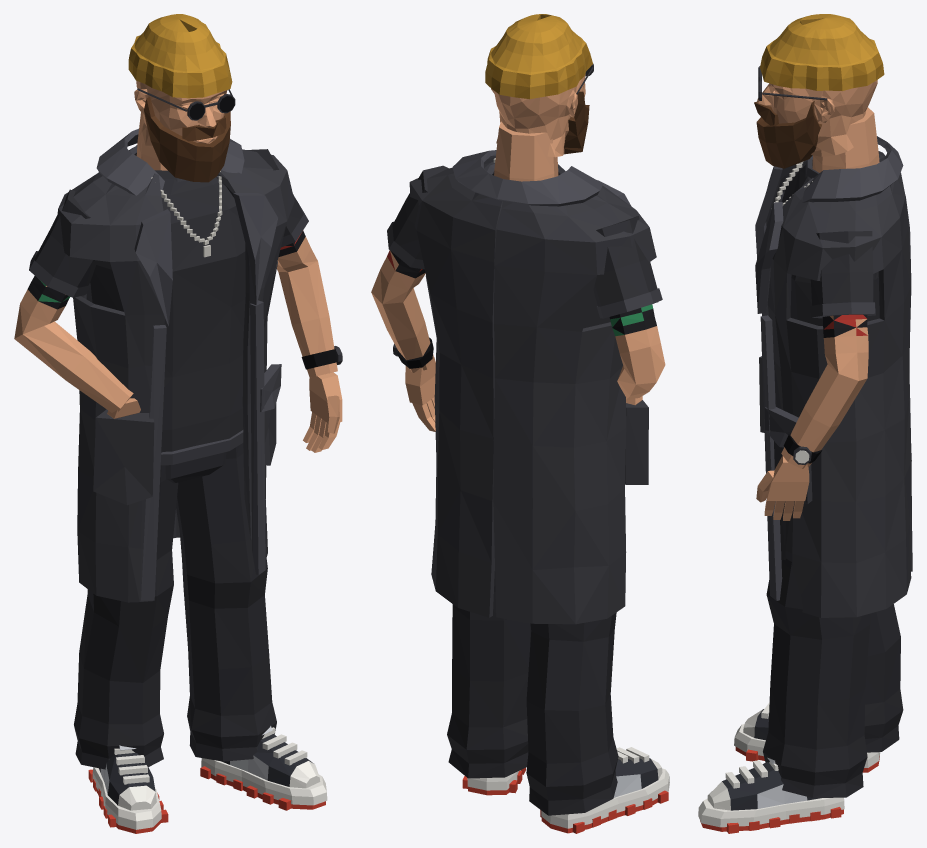
Rendered from oleg-figure.glb.
The picture shows the model from 3 angles, left to right: view 1: azimuth 30°, elevation 25°; view 2: azimuth 150°, elevation 25°; view 3: azimuth 270°, elevation 25°; orthographic projection. The views are drawn at different scales.
Visible parts, largest first — view 1: TorsoMesh, Body, HeadMesh, ArmLMesh; view 2: TorsoMesh, Body, HeadMesh, ArmLMesh; view 3: TorsoMesh, Body, HeadMesh, ArmLMesh.
Part boxes in pixels (x1,y1,x2,y2): TorsoMesh: [14, 112, 294, 602]; Body: [74, 443, 327, 833]; HeadMesh: [128, 14, 235, 182]; ArmLMesh: [247, 149, 342, 452]; TorsoMesh: [409, 121, 665, 624]; Body: [447, 571, 669, 833]; HeadMesh: [485, 14, 593, 157]; ArmLMesh: [371, 165, 448, 431]; TorsoMesh: [755, 107, 912, 617]; Body: [698, 559, 903, 833]; HeadMesh: [754, 14, 884, 168]; ArmLMesh: [756, 231, 875, 520].
Bounding box in the file's own units: 0.7515 × 1.89 × 0.4792.
